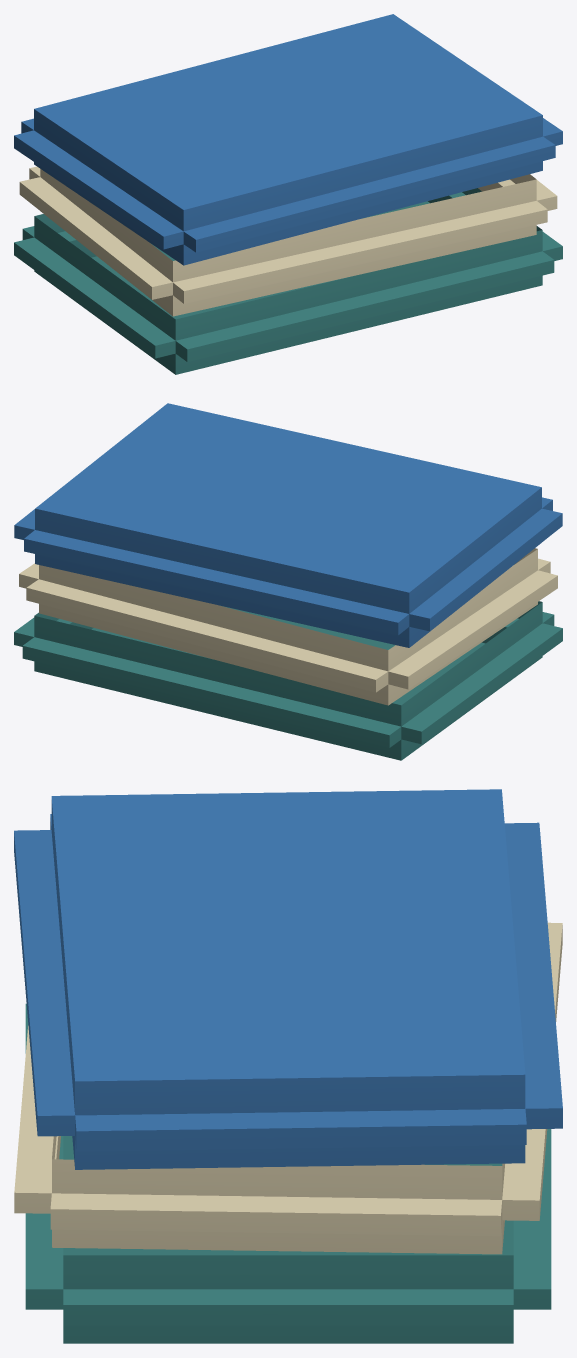
The model's file is Towel_Stack_01.glb.
The picture shows the model from 3 angles, top to bottom: view 1: azimuth 30°, elevation 25°; view 2: azimuth 150°, elevation 25°; view 3: azimuth 270°, elevation 25°; orthographic projection. The views are drawn at different scales.
Visible parts, largest first — view 1: SM_Towel_Stack_01; view 2: SM_Towel_Stack_01; view 3: SM_Towel_Stack_01.
Boxes of the visible parts, left/top/right/bottom form: SM_Towel_Stack_01: left=14, top=14, right=562, bottom=374; SM_Towel_Stack_01: left=14, top=403, right=562, bottom=760; SM_Towel_Stack_01: left=14, top=789, right=562, bottom=1343.
Size of the model in its own units: 0.4081 by 0.156 by 0.2924.
Materials: 1 (1 with a texture image).
